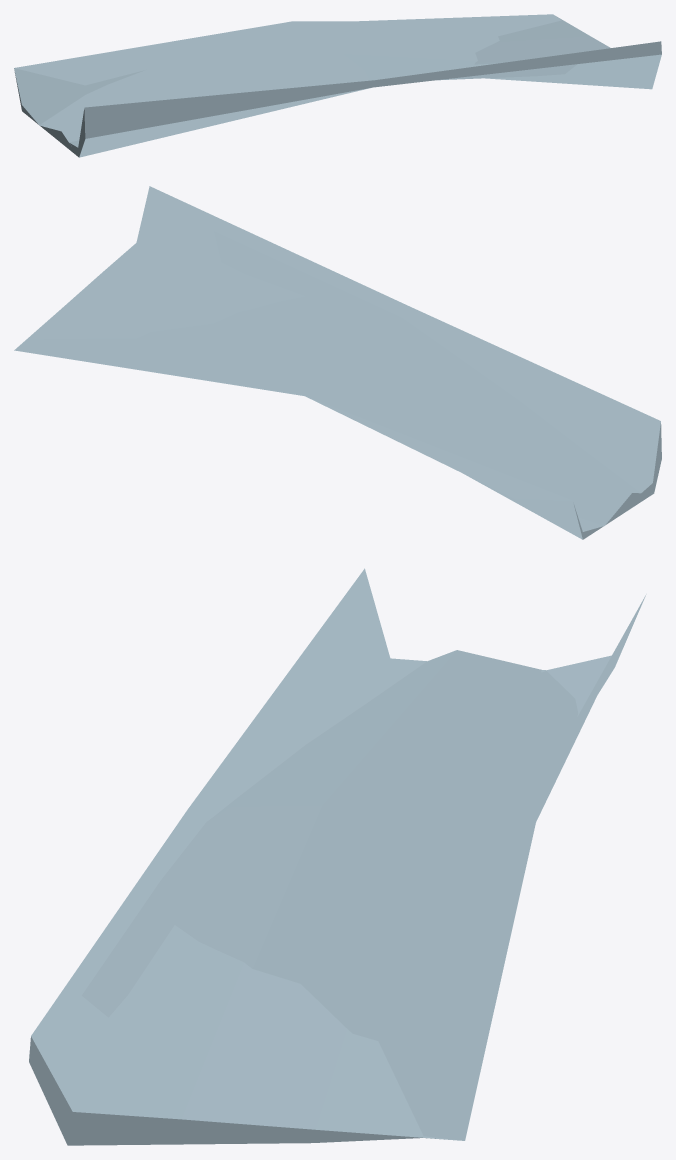
Rendered from su33d_aileron_right.glb.
3 renders of one model, top to bottom at view 1: azimuth 30°, elevation 25°; view 2: azimuth 150°, elevation 25°; view 3: azimuth 270°, elevation 25°, orthographic. The views are drawn at different scales.
Parts seen in each view (by area): view 1: 0_AileronRight; view 2: 0_AileronRight; view 3: 0_AileronRight.
Part boxes in pixels (<box>): 0_AileronRight: <box>14,14,661,157</box>; 0_AileronRight: <box>14,186,661,539</box>; 0_AileronRight: <box>29,568,646,1145</box>.
Size of the model in its own units: 1.75 by 0.2066 by 0.9476.
